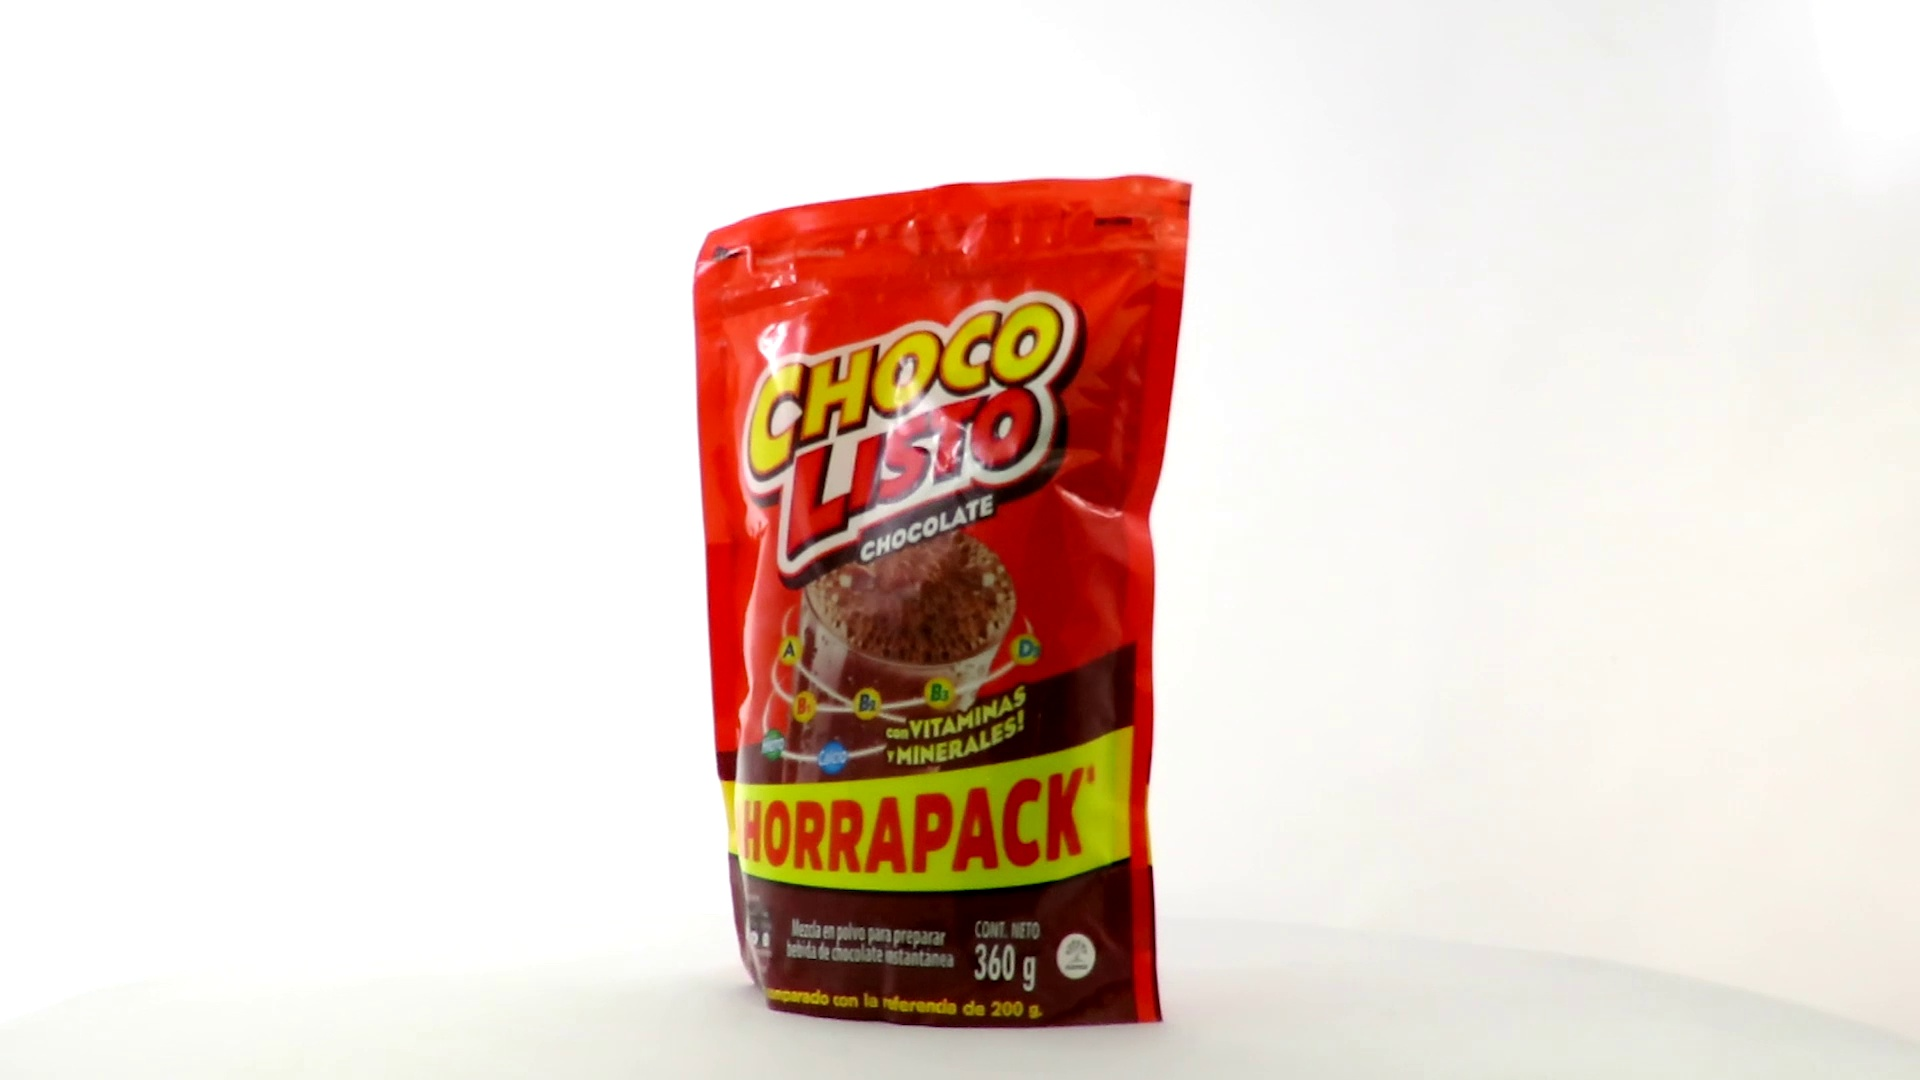COL0170103DYP36000: (687, 170, 1197, 1035)
